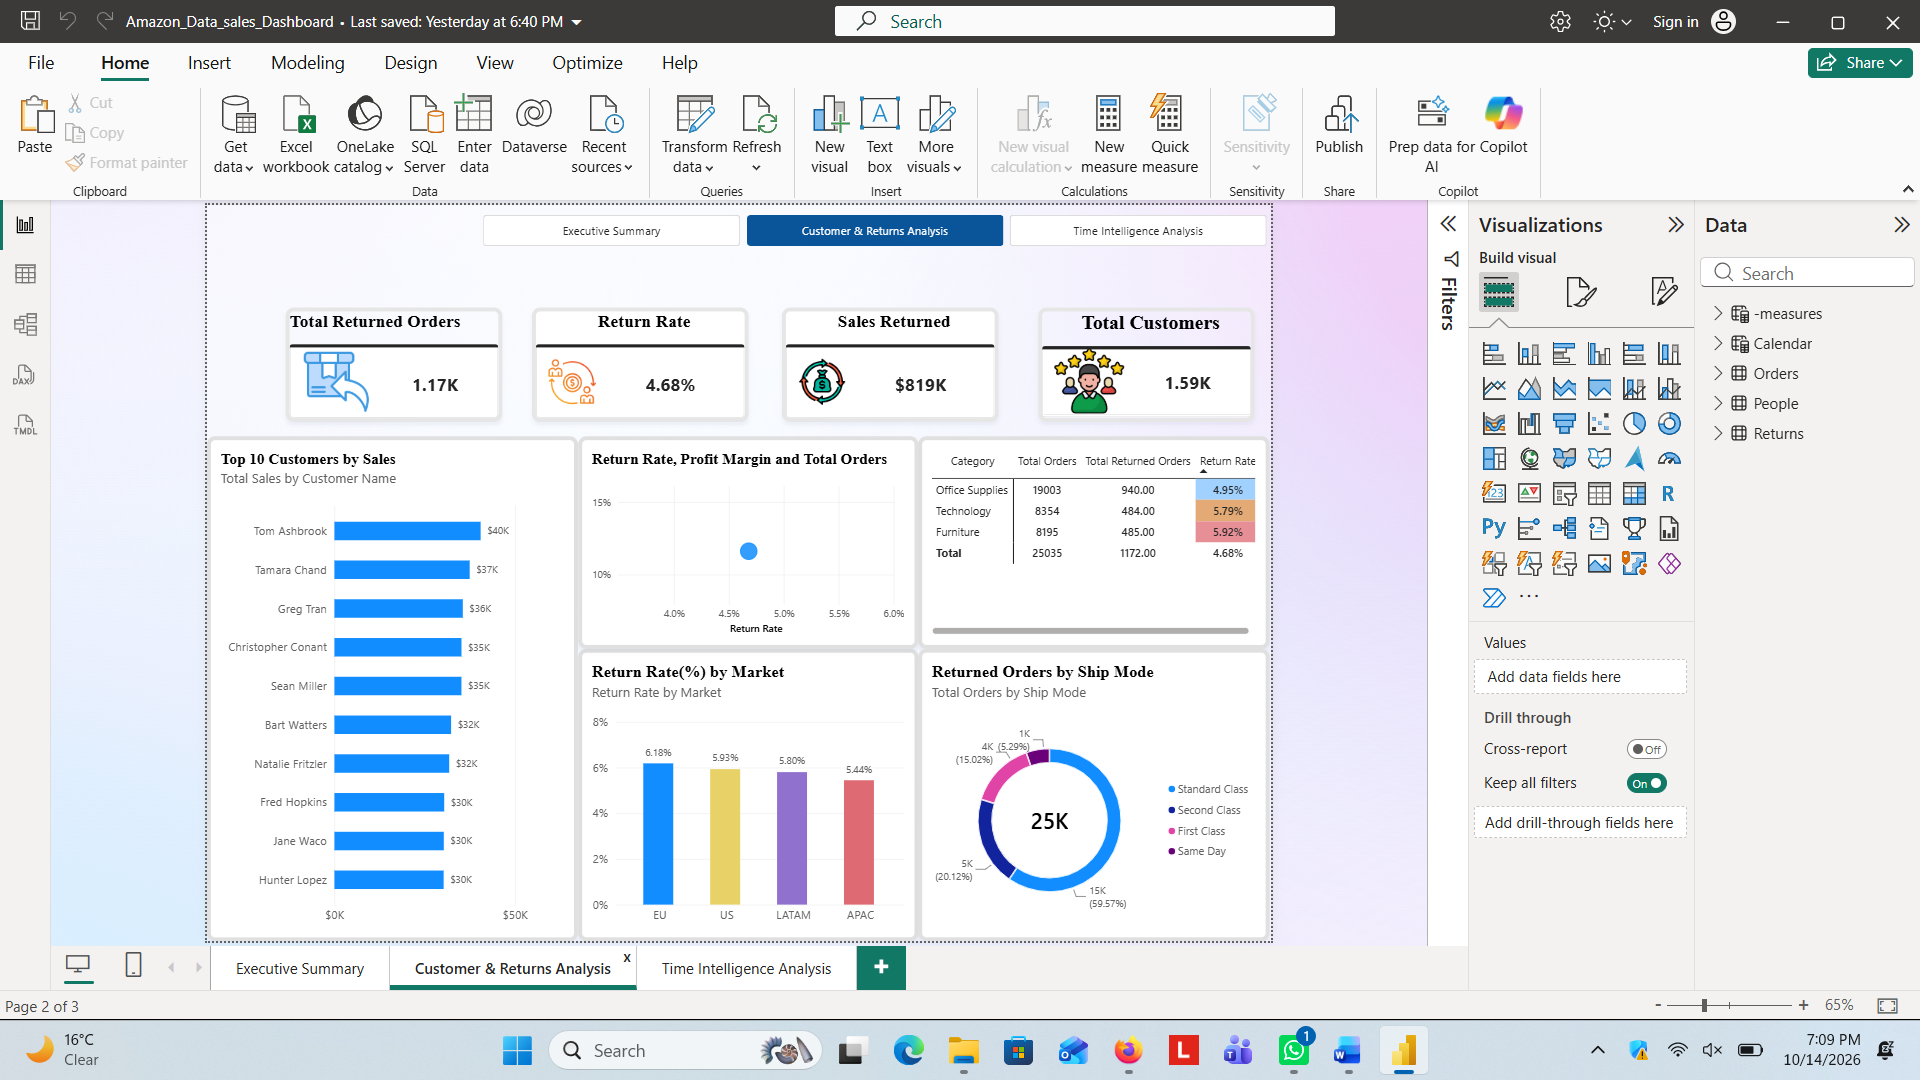

The dashboard page shown, as its layout file describes it:
{"tool":"powerbi","page":{"name":"Customer & Returns Analysis","canvas":[1300,900],"ordinal":1},"visuals":[{"type":"cardVisual","title":"Total Returned Orders","fields":{"Data":["-measures.Total Returned Orders"]},"box":[96.3,125.3,265,140],"z":0},{"type":"cardVisual","title":"Return Rate","fields":{"Data":["-measures.Return Rate"]},"box":[397.4,125.3,265,140],"z":1000},{"type":"cardVisual","title":"Sales Returned","fields":{"Data":["-measures.Returned Sales"]},"box":[703.1,125.3,265,140],"z":2000},{"type":"cardVisual","title":"Total Customers","fields":{"Data":["-measures.Total Customers"]},"box":[1016.5,125.3,265,140],"z":3000},{"type":"pivotTable","fields":{"Rows":["Orders.Category"],"Values":["-measures.Total Orders","-measures.Total Returned Orders","-measures.Return Rate"]},"box":[869.7,282.8,429.5,259.9],"z":4000},{"type":"clusteredColumnChart","title":"Return Rate(%) by Market","fields":{"Category":["Orders.Market"],"Y":["-measures.Return Rate"]},"box":[454,542.6,415.8,357.7],"z":5000},{"type":"donutChart","title":"Returned Orders by Ship Mode","fields":{"Category":["Orders.Ship Mode"],"Y":["-measures.Total Orders"]},"box":[869.7,542.6,429.5,357.7],"z":6000},{"type":"barChart","title":"Top 10  Customers by Sales","fields":{"Category":["Orders.Customer Name"],"Y":["-measures.Total Sales"]},"box":[0,282.8,454,617.5],"z":7000},{"type":"scatterChart","fields":{"Size":["-measures.Total Orders"],"X":["-measures.Return Rate"],"Y":["-measures.Profit Margin"]},"box":[454,282.8,415.8,259.9],"z":8000},{"type":"pageNavigator","box":[337.8,12.2,959.9,38.2],"z":8001}]}

Visuals, with their boxes on the page's 1300x900 design canvas (x1, y1, x2, y2). These are canvas units, not pixel positions in the 1920x1080 screenshot, which may show the page scaled, cropped or inside an application window:
"Total Returned Orders" cardVisual: {"left": 96, "top": 125, "right": 361, "bottom": 265}
"Return Rate" cardVisual: {"left": 397, "top": 125, "right": 662, "bottom": 265}
"Sales Returned" cardVisual: {"left": 703, "top": 125, "right": 968, "bottom": 265}
"Total Customers" cardVisual: {"left": 1016, "top": 125, "right": 1282, "bottom": 265}
pivotTable - Orders.Category x -measures.Total Orders: {"left": 870, "top": 283, "right": 1299, "bottom": 543}
"Return Rate(%) by Market" clusteredColumnChart: {"left": 454, "top": 543, "right": 870, "bottom": 900}
"Returned Orders by Ship Mode" donutChart: {"left": 870, "top": 543, "right": 1299, "bottom": 900}
"Top 10  Customers by Sales" barChart: {"left": 0, "top": 283, "right": 454, "bottom": 900}
scatterChart - -measures.Total Orders x -measures.Return Rate: {"left": 454, "top": 283, "right": 870, "bottom": 543}
pageNavigator: {"left": 338, "top": 12, "right": 1298, "bottom": 50}
